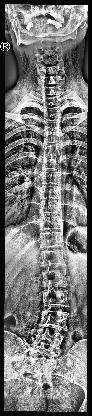Vertebrae: (38, 310, 68, 330), (42, 289, 70, 309), (38, 250, 68, 268), (40, 270, 70, 288), (30, 342, 59, 358), (39, 233, 65, 250), (38, 216, 64, 232), (39, 200, 63, 216), (34, 330, 64, 342), (40, 172, 62, 186), (44, 118, 62, 134), (42, 156, 60, 172), (42, 144, 62, 158), (40, 186, 60, 200), (44, 131, 62, 145), (44, 107, 62, 119)
